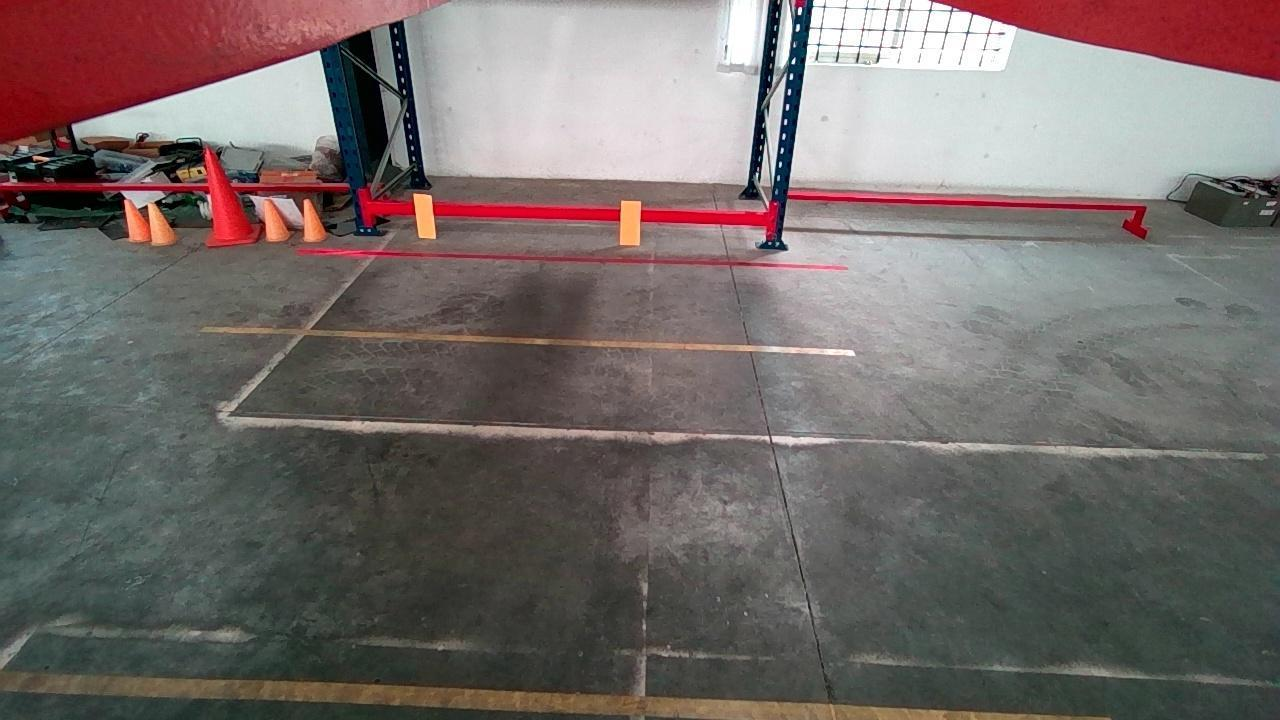h_rack: (372, 200, 767, 222)
orange_strip: (412, 194, 438, 237), (619, 199, 642, 243)
red_line: (293, 244, 848, 270)
yellow_line: (0, 671, 1108, 719), (200, 324, 857, 356)
